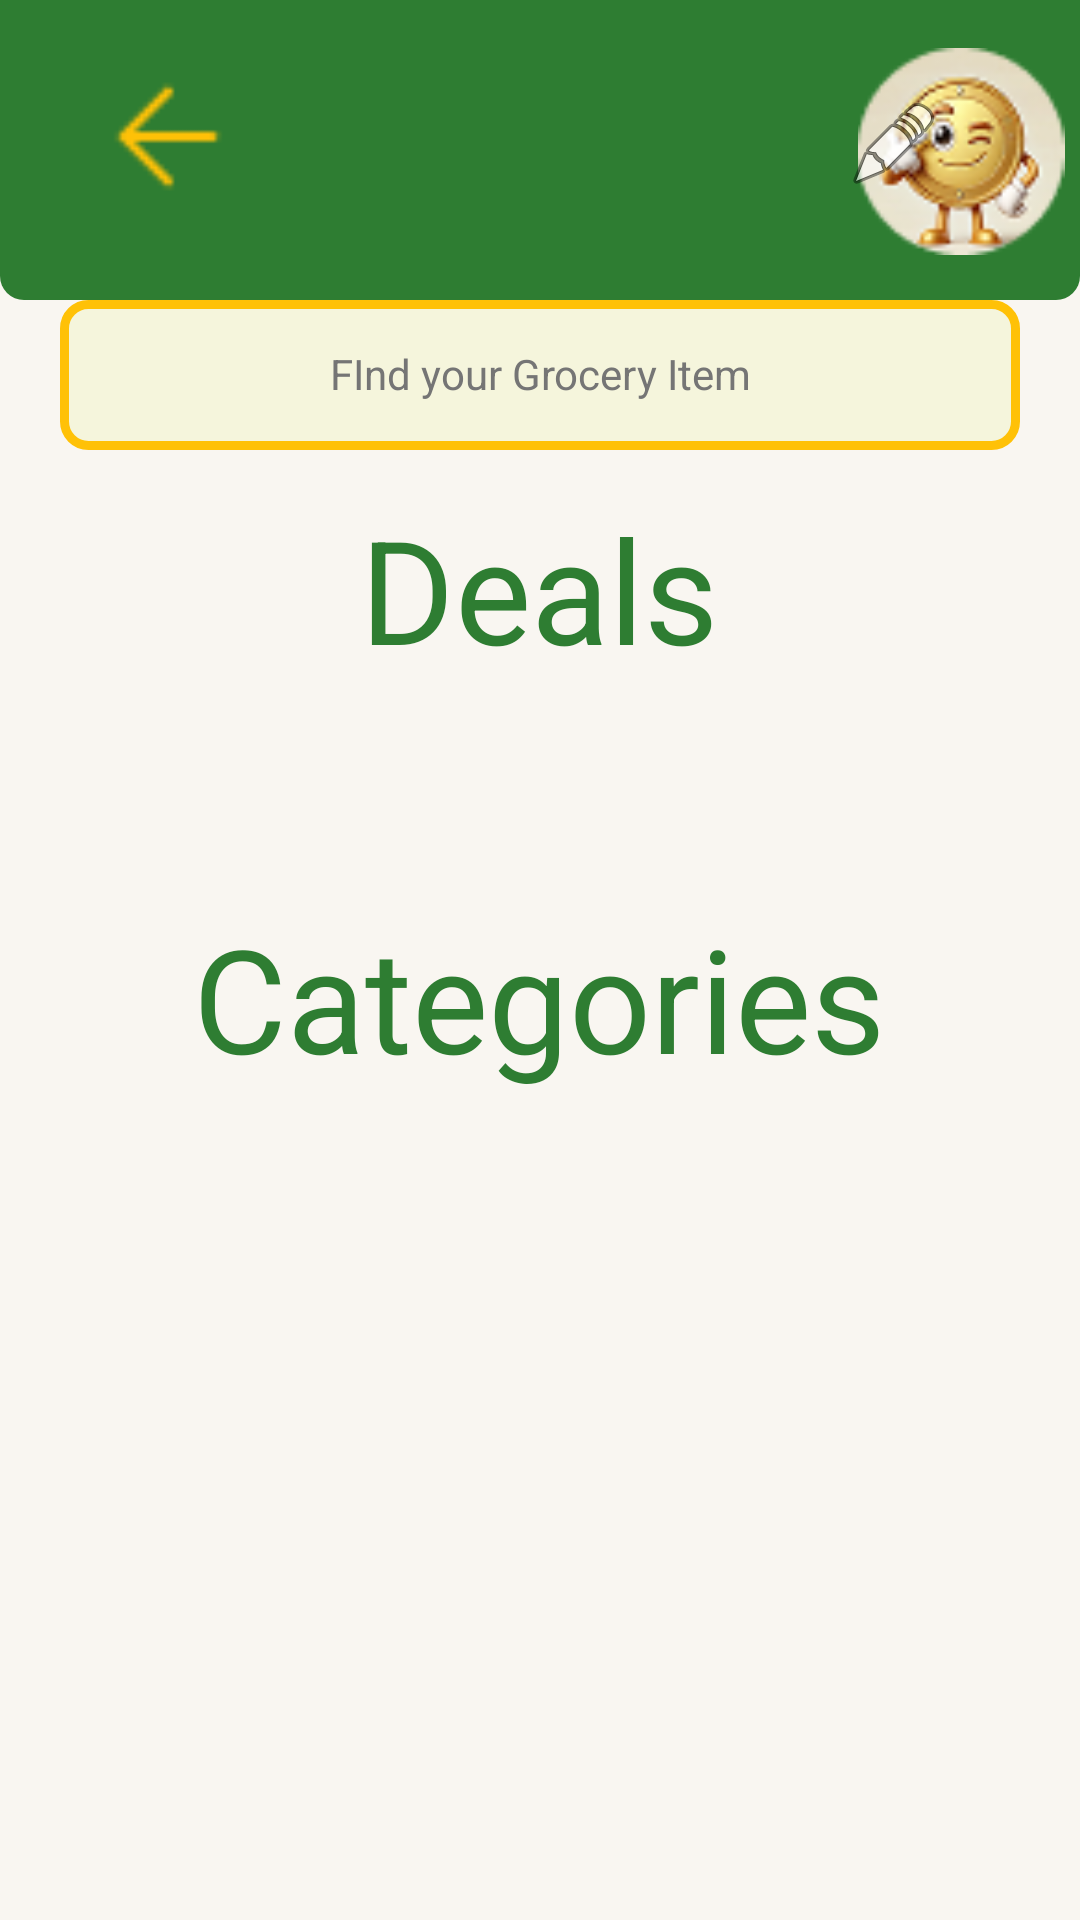

Icons on this 1080 x 1920 Android screen, each with its box as (x1, y1, x2, y2):
arrow left: (116, 85, 220, 188)
